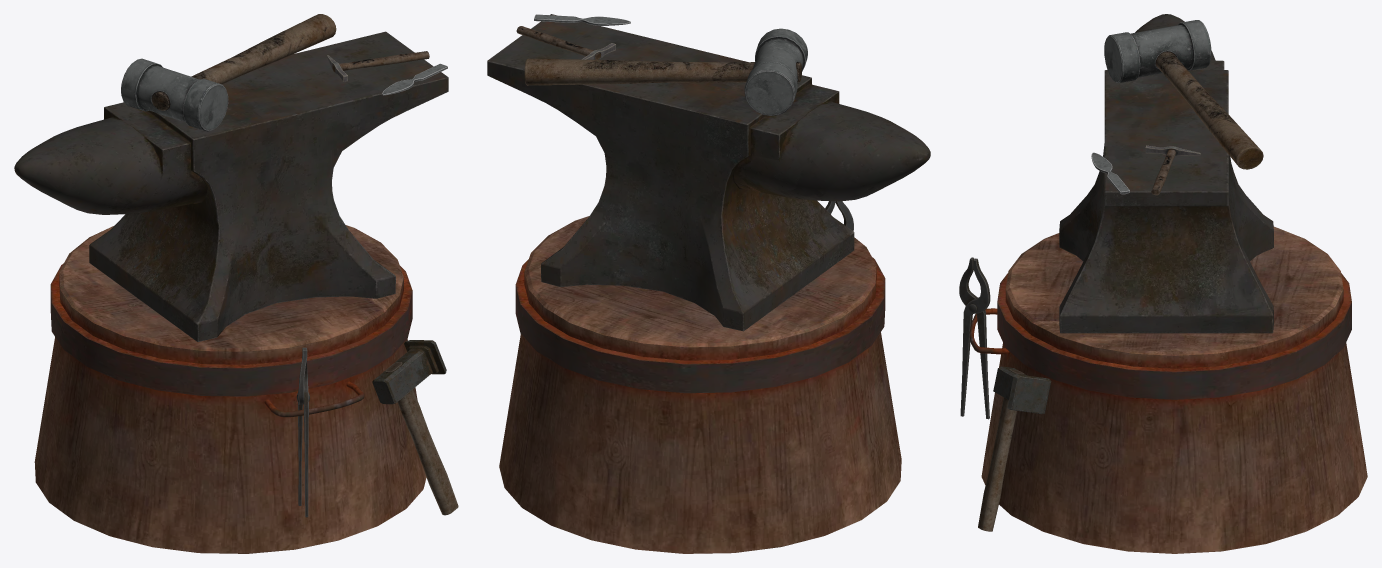
File: yunque glb.glb
The picture shows the model from 3 angles, left to right: view 1: azimuth 30°, elevation 25°; view 2: azimuth 150°, elevation 25°; view 3: azimuth 270°, elevation 25°; orthographic projection. The views are drawn at different scales.
Parts seen in each view (by area): view 1: Base, Iron, Hammer, Tool4, Tool3, Tool1, Tool2; view 2: Base, Iron, Hammer, Tool1, Tool2; view 3: Base, Iron, Hammer, Tool4, Tool3, Tool1, Tool2.
Boxes of the visible parts, bbox=[...] form: Base: bbox=[34, 225, 426, 553]; Iron: bbox=[14, 31, 448, 341]; Hammer: bbox=[121, 14, 336, 131]; Tool4: bbox=[372, 340, 458, 515]; Tool3: bbox=[296, 347, 309, 517]; Tool1: bbox=[327, 51, 429, 81]; Tool2: bbox=[382, 63, 447, 95]; Base: bbox=[499, 216, 901, 553]; Iron: bbox=[487, 14, 930, 331]; Hammer: bbox=[524, 28, 807, 115]; Tool1: bbox=[516, 26, 615, 59]; Tool2: bbox=[534, 14, 630, 25]; Base: bbox=[969, 226, 1367, 553]; Iron: bbox=[1059, 14, 1273, 333]; Hammer: bbox=[1104, 20, 1263, 169]; Tool4: bbox=[978, 366, 1051, 531]; Tool3: bbox=[959, 257, 990, 419]; Tool1: bbox=[1145, 145, 1200, 195]; Tool2: bbox=[1091, 152, 1129, 194].
Size of the model in its own units: 0.4516 by 0.447 by 0.4004.
Materials: 7 (7 with a texture image).
